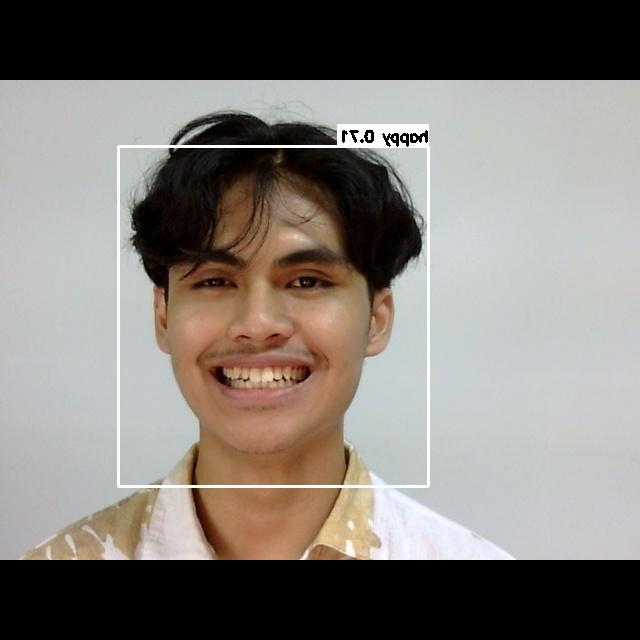Happy: (141, 206, 382, 437)
